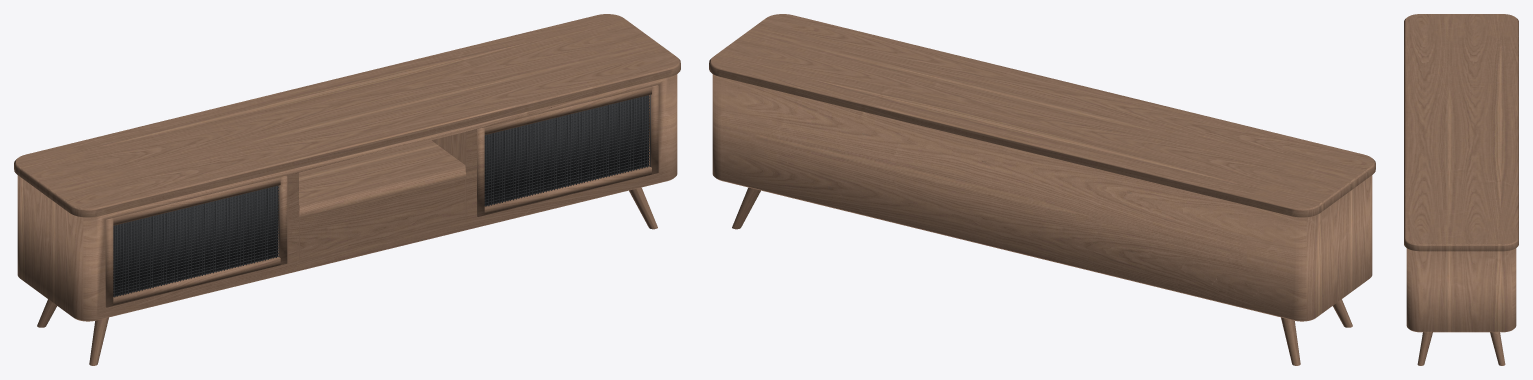
Rendered from walnut-mesh-tv-console.glb.
3 views of the same model, side by side, from view 1: azimuth 30°, elevation 25°; view 2: azimuth 150°, elevation 25°; view 3: azimuth 270°, elevation 25° (orthographic). The views are drawn at different scales.
Parts seen in each view (by area): view 1: top, body, R_mesh, L_mesh, L_inside, R_inside, drawer, L_rail_lo, R_rail_lo, L_rail_hi, R_rail_hi, L_stile_b (+4 smaller); view 2: body, top, leg_-1_1; view 3: top, body, leg_1_1, leg_1_-1.
Part boxes in pixels (<box>): top: <box>14,14,680,217</box>; body: <box>17,74,677,321</box>; R_mesh: <box>484,95,650,206</box>; L_mesh: <box>113,185,279,297</box>; L_inside: <box>113,185,277,295</box>; R_inside: <box>484,95,648,205</box>; drawer: <box>299,177,465,260</box>; L_rail_lo: <box>113,257,280,305</box>; R_rail_lo: <box>484,166,651,215</box>; L_rail_hi: <box>112,177,280,225</box>; R_rail_hi: <box>484,87,651,134</box>; L_stile_b: <box>278,175,287,264</box>; body: <box>712,74,1372,321</box>; top: <box>709,14,1375,217</box>; leg_-1_1: <box>1281,317,1300,365</box>; top: <box>1404,14,1518,251</box>; body: <box>1406,248,1516,332</box>; leg_1_1: <box>1490,332,1505,365</box>; leg_1_-1: <box>1417,332,1432,365</box>.
Bounding box in the file's own units: 2 × 0.52 × 0.42.
Materials: 3 (1 with a texture image).
